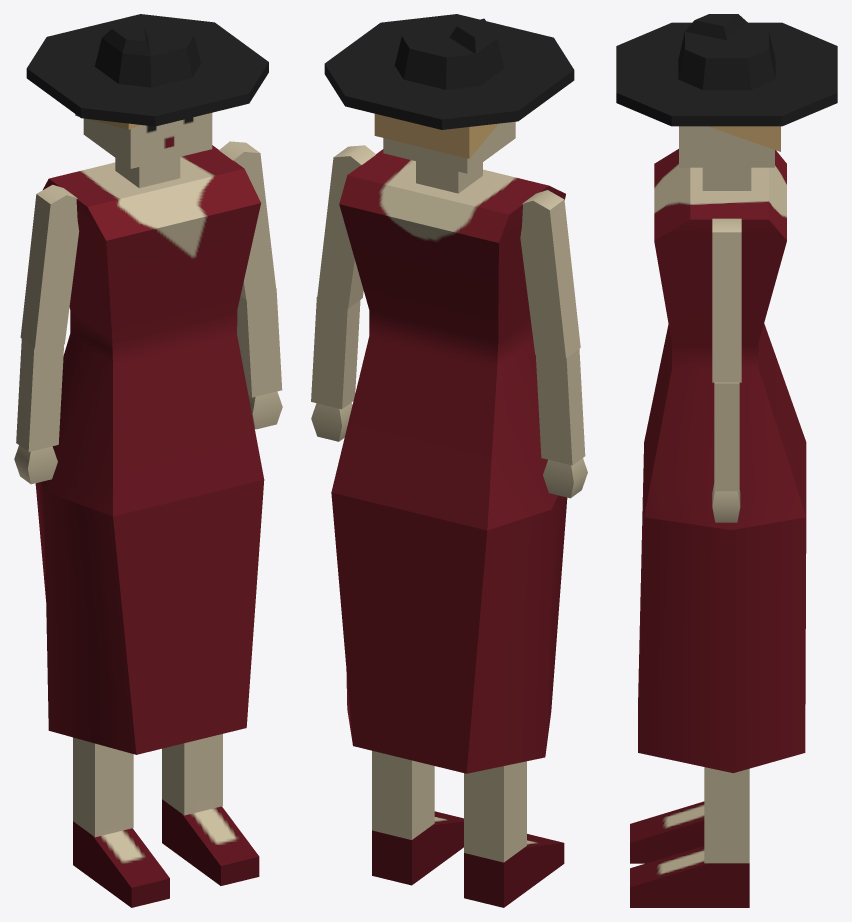
Rendered from MsScarlettModelExport.fbx.
3 views of the same model, side by side, from view 1: azimuth 30°, elevation 25°; view 2: azimuth 150°, elevation 25°; view 3: azimuth 270°, elevation 25° (orthographic). The views are drawn at different scales.
Parts seen in each view (by area): view 1: body, hat, upper_arm1, foot, lower_leg1, foot1, lower_arm1, head, lower_leg, lower_arm, upper_arm, neck (+2 smaller); view 2: body, hat, upper_arm1, lower_leg1, lower_leg, lower_arm1, lower_arm, upper_arm, foot1, foot, head1, head (+3 smaller); view 3: body, hat, foot, upper_arm, lower_leg, foot1, head, lower_arm, neck, head1, hand.
Boxes of the visible parts, left/top/right/bottom form: body: left=35, top=145, right=264, bottom=754; hat: left=26, top=14, right=268, bottom=126; upper_arm1: left=20, top=184, right=79, bottom=348; foot: left=162, top=799, right=259, bottom=885; lower_leg1: left=73, top=737, right=133, bottom=837; foot1: left=73, top=821, right=169, bottom=907; lower_arm1: left=16, top=339, right=64, bottom=451; head: left=83, top=113, right=212, bottom=168; lower_leg: left=162, top=734, right=222, bottom=815; lower_arm: left=237, top=288, right=282, bottom=397; upper_arm: left=219, top=141, right=276, bottom=299; neck: left=115, top=157, right=180, bottom=188; body: left=331, top=149, right=567, bottom=773; hat: left=324, top=14, right=574, bottom=129; upper_arm1: left=520, top=190, right=580, bottom=358; lower_leg1: left=464, top=761, right=526, bottom=862; lower_leg: left=372, top=750, right=434, bottom=839; lower_arm1: left=535, top=349, right=585, bottom=465; lower_arm: left=311, top=297, right=360, bottom=409; upper_arm: left=317, top=145, right=375, bottom=308; foot1: left=464, top=834, right=564, bottom=907; foot: left=372, top=811, right=463, bottom=885; head1: left=374, top=113, right=498, bottom=158; head: left=383, top=121, right=515, bottom=173; body: left=638, top=149, right=806, bottom=773; hat: left=616, top=14, right=837, bottom=126; foot: left=630, top=846, right=749, bottom=907; upper_arm: left=712, top=218, right=741, bottom=382; lower_leg: left=704, top=767, right=749, bottom=863; foot1: left=630, top=801, right=704, bottom=863; head: left=679, top=126, right=774, bottom=167; lower_arm: left=714, top=382, right=739, bottom=491; neck: left=702, top=167, right=751, bottom=190; head1: left=708, top=126, right=780, bottom=151; hand: left=712, top=483, right=740, bottom=522.
Size of the model in its own units: 0.6862 by 2.14 by 0.5053.
